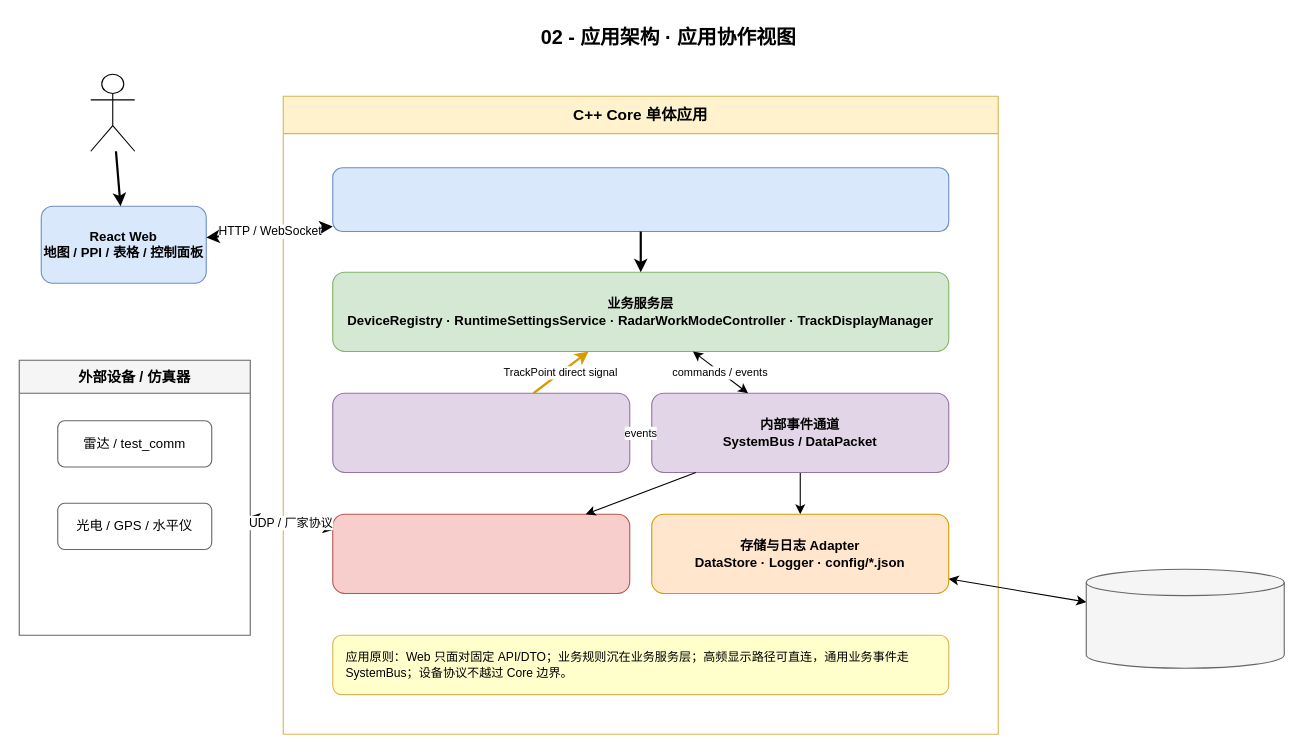
Some shapes in this 1304 by 754 pixel diagram are drawn without their labels. The shapes that lost their labels are listed below. From the top down, each one's centre as x and y in pixels, then its label:
the point at 112,112: 用户 / 值守人员
the point at 640,199: Web 接入 Adapter REST / WebSocket / 固定 DTO
the point at 481,432: 数据处理 / 协议适配 RadarDataProcessor · 厂家协议解析 · TrackPoint 标准化
the point at 481,553: 设备接入 / 输出服务 CommunicationManager · BusToCommRouter · DphPublisher
the point at 1184,618: SQLite / 文件配置 / 回放数据
